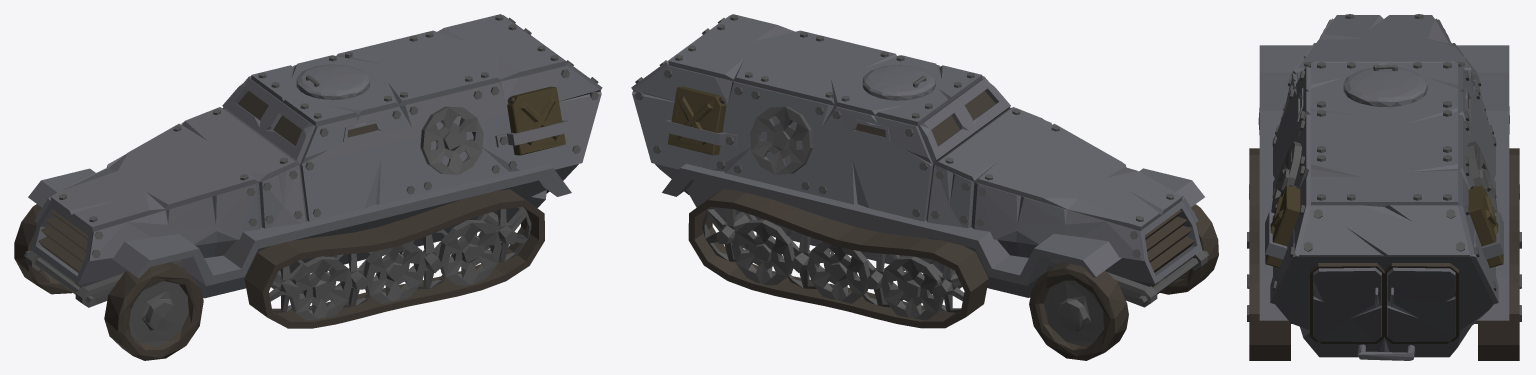
The model's file is carro.gltf.
3 renders of one model, left to right at view 1: azimuth 30°, elevation 25°; view 2: azimuth 150°, elevation 25°; view 3: azimuth 270°, elevation 25°, orthographic. The views are drawn at different scales.
Visible parts, largest first — view 1: armored car7; view 2: armored car7; view 3: armored car7.
Part boxes in pixels (x1,y1,x2,y2): armored car7: (14, 14, 602, 360); armored car7: (631, 14, 1218, 360); armored car7: (1247, 14, 1521, 360).
Size of the model in its own units: 5.1 by 1.86 by 2.08.
